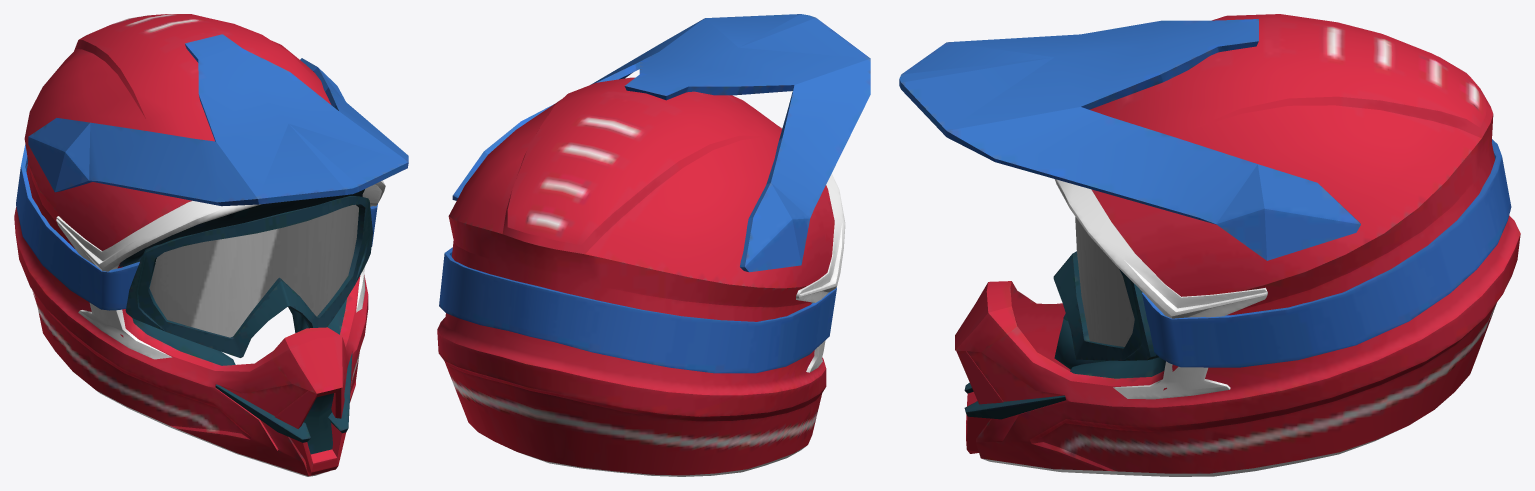
The model's file is RiderA_head.fbx.
The picture shows the model from 3 angles, left to right: view 1: azimuth 30°, elevation 25°; view 2: azimuth 150°, elevation 25°; view 3: azimuth 270°, elevation 25°; orthographic projection. The views are drawn at different scales.
Visible parts, largest first — view 1: riderA_Head; view 2: riderA_Head; view 3: riderA_Head.
Part boxes in pixels (box(x1,y1,x2,y2)): riderA_Head: box(14, 14, 408, 476); riderA_Head: box(437, 14, 870, 476); riderA_Head: box(899, 14, 1520, 476).
Bounding box in the file's own units: 21.95 × 25.28 × 33.29.
